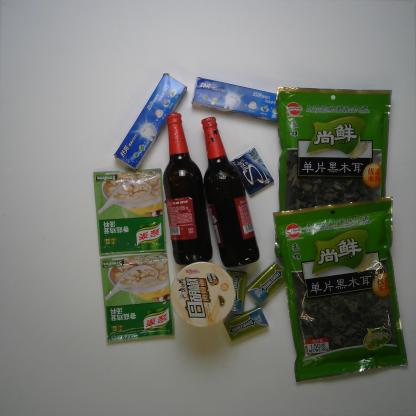Alcohol: (200, 115, 260, 268), (163, 111, 213, 266)
Dried Food: (272, 194, 409, 383), (274, 86, 393, 260)
Gum: (229, 146, 275, 196), (245, 261, 287, 305), (222, 306, 269, 343), (223, 269, 247, 316)
Instant Noodles: (170, 261, 236, 329)
Personal Hygiene: (112, 73, 187, 172), (190, 76, 281, 124)
Seasoner: (100, 252, 175, 342), (92, 167, 167, 256)
